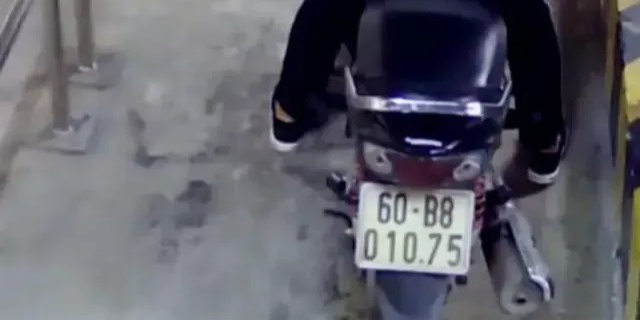bien_so: (354, 184, 473, 277)
